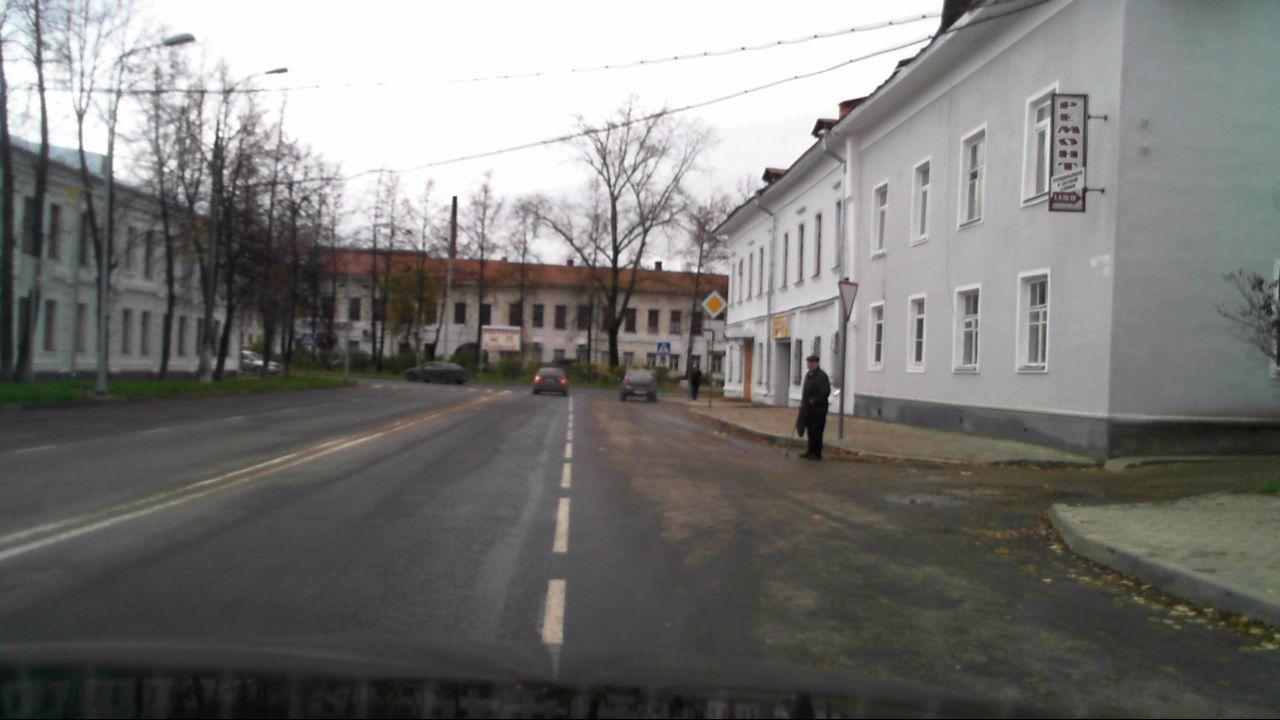2_1: (700, 287, 728, 319)
2_4: (836, 280, 859, 321)
5_19_1: (656, 341, 671, 355)
5_19_2: (304, 333, 314, 347)
8_13: (703, 318, 725, 340)
